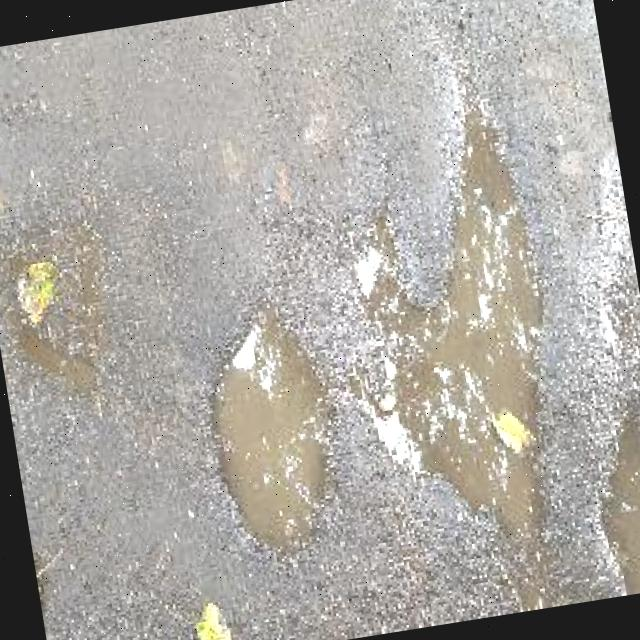waterlogging: (320, 69, 594, 586), (183, 272, 367, 568)
